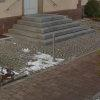stairs: (2, 19, 51, 39)
